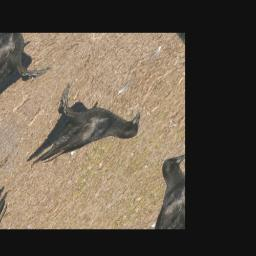Crow: (11, 66, 148, 204)
